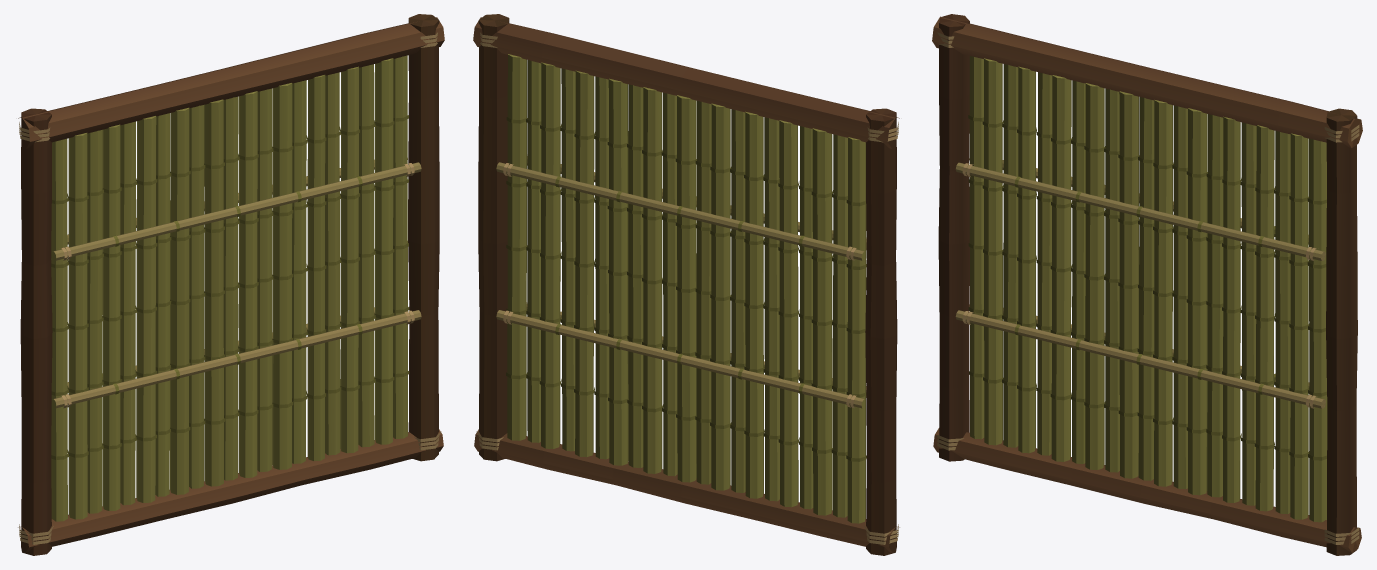
The model's file is wall.glb.
3 renders of one model, left to right at view 1: azimuth 30°, elevation 25°; view 2: azimuth 150°, elevation 25°; view 3: azimuth 330°, elevation 25°, orthographic.
Visible parts, largest first — view 1: b_wall_solid; view 2: b_wall_solid; view 3: b_wall_solid.
Boxes of the visible parts, box(x1,y1,x2,y2) form: b_wall_solid: box(18, 14, 444, 555); b_wall_solid: box(473, 14, 899, 555); b_wall_solid: box(932, 14, 1362, 555).
Size of the model in its own units: 3.01 by 3.01 by 0.2519.
